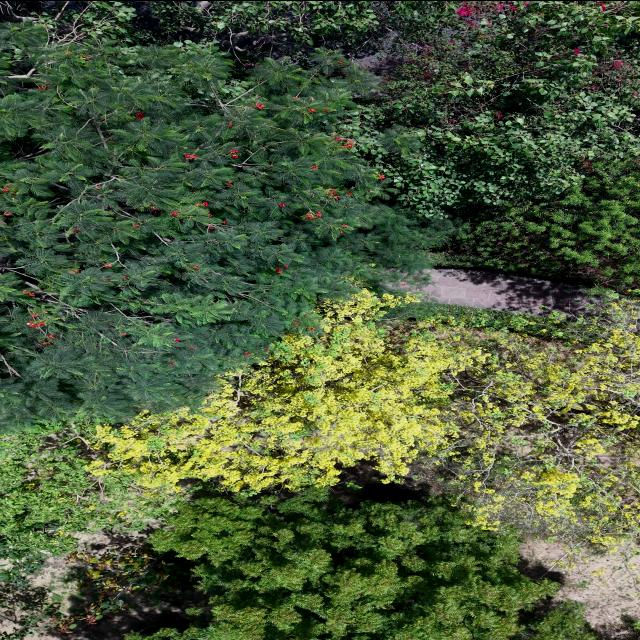DRY_AREA: (520, 531, 639, 639), (520, 538, 639, 635), (389, 267, 599, 313), (23, 590, 207, 639), (23, 590, 206, 639), (400, 268, 599, 313), (401, 268, 599, 313), (400, 268, 595, 313), (400, 268, 594, 313), (24, 592, 204, 639), (39, 590, 206, 639), (25, 593, 202, 639), (0, 556, 76, 632), (0, 577, 51, 633), (351, 30, 399, 74)
PATHWAYS: (391, 268, 597, 313)
VEGETATION_TREE: (0, 1, 639, 639), (0, 2, 638, 429), (3, 291, 637, 581), (0, 22, 450, 428), (3, 291, 637, 570), (90, 290, 638, 543), (43, 2, 638, 216), (0, 490, 605, 639), (348, 1, 639, 291), (128, 495, 567, 639), (357, 1, 638, 216), (0, 423, 176, 639), (440, 159, 639, 294), (0, 423, 178, 573), (11, 1, 397, 55), (0, 541, 205, 639), (140, 1, 420, 53), (49, 545, 174, 632), (154, 1, 388, 44), (0, 569, 60, 639), (520, 602, 602, 639)
